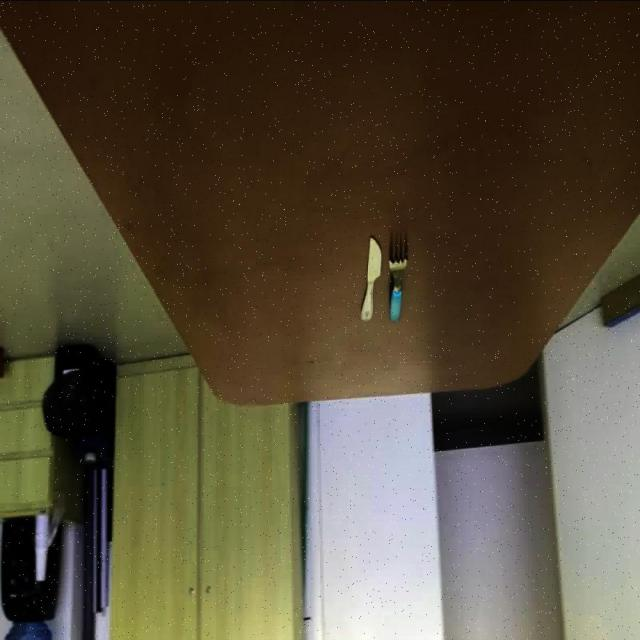Fork: (388, 230, 408, 320)
Knife: (359, 233, 382, 320)
